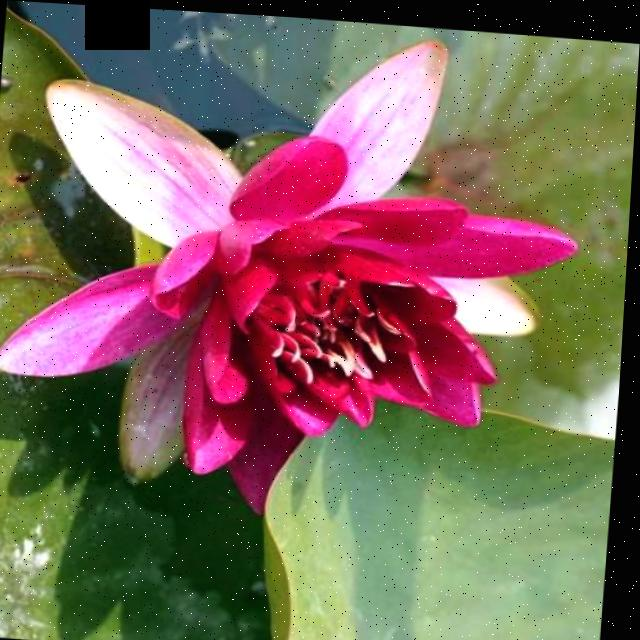rose: (0, 0, 608, 534)
